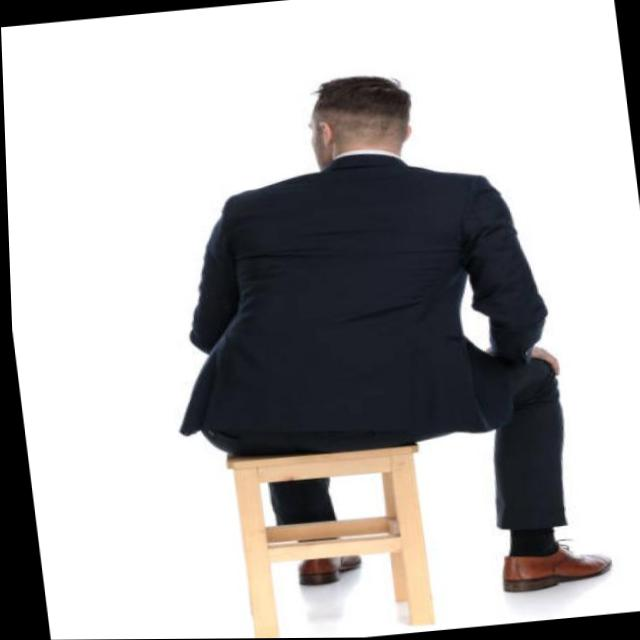no helmet: (264, 50, 428, 190)
